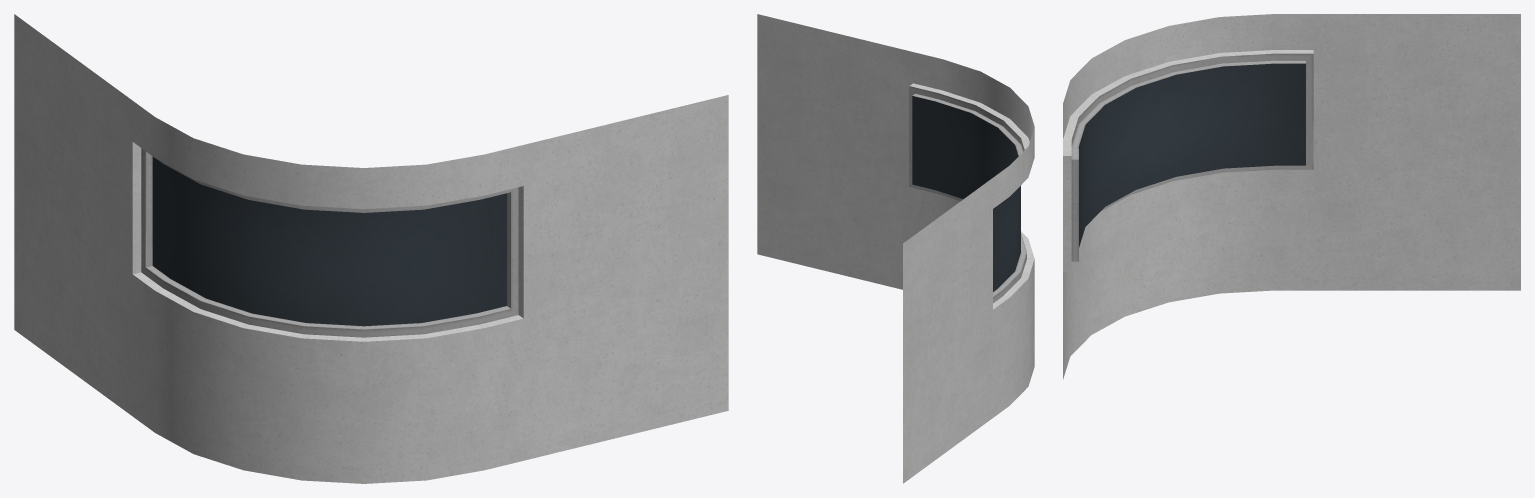
The model's file is MB_Wall_Window_A_08.fbx.
The picture shows the model from 3 angles, left to right: view 1: azimuth 30°, elevation 25°; view 2: azimuth 150°, elevation 25°; view 3: azimuth 270°, elevation 25°; orthographic projection. The views are drawn at different scales.
Parts seen in each view (by area): view 1: MB_Wall_Window_A_08; view 2: MB_Wall_Window_A_08; view 3: MB_Wall_Window_A_08.
Boxes of the visible parts, bbox=[...] form: MB_Wall_Window_A_08: bbox=[14, 14, 728, 483]; MB_Wall_Window_A_08: bbox=[757, 14, 1034, 483]; MB_Wall_Window_A_08: bbox=[1063, 14, 1520, 379].
Size of the model in its own units: 300 by 200 by 300.
